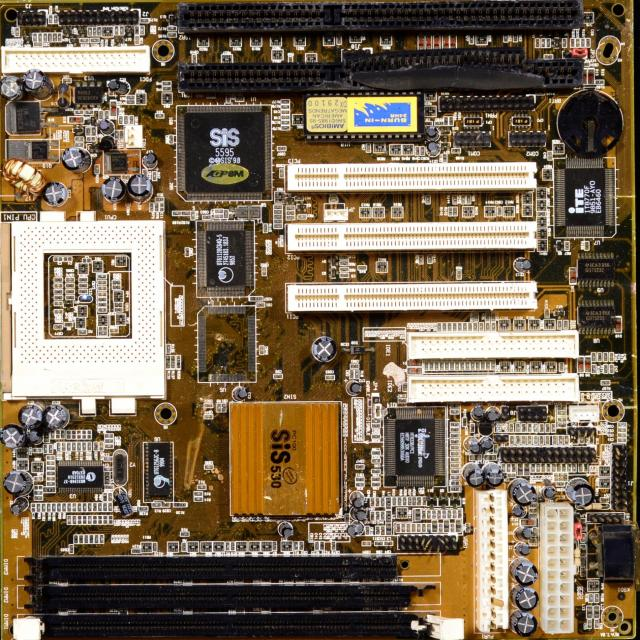Capacitor Jumper: (374, 539, 385, 547), (381, 540, 393, 547), (261, 264, 268, 276), (53, 322, 63, 330), (53, 308, 66, 314), (63, 255, 74, 262), (88, 514, 94, 526), (103, 514, 109, 526), (361, 540, 373, 546), (587, 618, 593, 630), (77, 276, 89, 282), (112, 284, 124, 290), (282, 113, 292, 120), (277, 145, 287, 152), (203, 464, 214, 470), (370, 496, 376, 507), (65, 282, 76, 288), (78, 288, 89, 294), (204, 402, 213, 409), (53, 256, 62, 263), (350, 363, 360, 369), (616, 422, 626, 428), (616, 427, 626, 433), (72, 430, 78, 440), (98, 515, 104, 525), (411, 524, 417, 534), (374, 540, 384, 546), (214, 208, 224, 214), (202, 214, 212, 220), (184, 246, 190, 256), (66, 276, 76, 282), (53, 277, 63, 283), (112, 280, 124, 285), (54, 301, 64, 307), (98, 302, 108, 308), (110, 328, 120, 334), (326, 374, 334, 381), (53, 295, 64, 300), (98, 296, 109, 301), (114, 308, 125, 313), (617, 433, 626, 439), (94, 441, 100, 450), (82, 515, 88, 524), (66, 516, 72, 525), (109, 516, 115, 525), (78, 516, 84, 525), (281, 120, 290, 126), (98, 286, 107, 292), (256, 302, 265, 308), (609, 364, 614, 374), (204, 414, 214, 419), (87, 430, 92, 440), (77, 430, 82, 440), (616, 438, 626, 443), (93, 514, 98, 524), (375, 525, 380, 535), (380, 526, 385, 536), (362, 541, 372, 546), (331, 540, 336, 550), (214, 214, 224, 219), (340, 255, 350, 260), (340, 273, 350, 278), (98, 308, 108, 313), (56, 428, 60, 440), (33, 42, 45, 46), (349, 370, 354, 379), (222, 403, 227, 412), (586, 38, 591, 47), (82, 430, 87, 439), (396, 523, 401, 532), (279, 169, 284, 178), (497, 206, 502, 215), (54, 283, 63, 288), (66, 295, 75, 300), (260, 345, 264, 356), (98, 280, 109, 284), (274, 374, 282, 379), (571, 38, 575, 48), (100, 441, 104, 451), (423, 496, 427, 506), (370, 511, 374, 521), (365, 526, 370, 534), (129, 116, 134, 124), (169, 136, 174, 144), (416, 146, 420, 156), (126, 196, 130, 206), (160, 203, 165, 211), (80, 283, 88, 288), (54, 289, 64, 293), (66, 290, 76, 294), (115, 303, 125, 307), (67, 429, 71, 438), (418, 497, 422, 506), (32, 503, 36, 512), (70, 545, 74, 554), (281, 110, 290, 114), (99, 292, 108, 296), (576, 38, 580, 46), (375, 498, 379, 506), (407, 524, 411, 532), (143, 169, 147, 176), (300, 542, 303, 550), (595, 620, 598, 628)
Connector: (339, 0, 591, 34), (171, 0, 339, 35), (478, 491, 513, 632), (544, 504, 576, 635), (54, 8, 151, 28), (5, 6, 45, 27)
IC: (178, 104, 276, 199), (383, 405, 452, 482), (557, 157, 621, 239), (195, 223, 257, 298), (144, 435, 176, 500), (52, 459, 104, 494)
Resistor Jumper: (374, 142, 388, 154), (552, 143, 565, 155), (389, 143, 401, 156), (135, 92, 146, 106), (522, 192, 533, 206), (462, 205, 474, 217), (270, 36, 283, 47), (359, 207, 372, 218), (391, 207, 404, 218), (376, 261, 387, 274), (141, 542, 153, 553), (372, 207, 384, 218), (379, 35, 392, 45), (230, 38, 243, 48), (402, 145, 413, 156), (522, 205, 533, 216), (485, 206, 496, 217), (504, 206, 515, 217), (250, 37, 262, 47), (281, 540, 291, 552), (294, 36, 305, 46), (198, 37, 209, 47), (162, 93, 172, 104), (151, 503, 172, 508), (275, 192, 285, 202), (96, 272, 108, 279), (63, 321, 75, 328), (93, 534, 101, 544), (248, 296, 264, 301), (491, 359, 497, 371), (459, 360, 465, 372), (82, 443, 89, 453), (78, 534, 85, 544), (88, 534, 95, 544), (280, 98, 290, 105), (298, 213, 308, 220), (62, 441, 68, 452), (72, 514, 78, 525), (84, 534, 90, 545), (262, 223, 268, 234), (15, 27, 21, 38), (478, 322, 484, 333), (452, 322, 458, 333), (595, 79, 604, 86), (449, 360, 455, 370), (454, 360, 460, 370), (80, 38, 90, 44), (50, 430, 56, 440), (67, 442, 73, 452), (197, 484, 207, 490), (193, 491, 203, 497), (416, 523, 422, 533), (421, 523, 427, 533), (100, 534, 106, 544), (74, 535, 80, 545), (75, 109, 85, 115), (460, 195, 466, 205), (418, 253, 423, 265), (339, 260, 349, 266), (491, 322, 497, 332), (445, 360, 450, 371), (138, 506, 149, 511), (381, 510, 386, 521), (594, 593, 599, 604), (428, 254, 433, 265), (485, 312, 490, 323), (77, 329, 88, 334), (480, 361, 486, 370), (429, 361, 435, 370), (424, 362, 430, 371), (57, 442, 63, 451), (446, 510, 452, 519), (314, 541, 320, 550), (155, 113, 164, 119), (114, 130, 120, 139), (140, 17, 149, 23), (442, 322, 448, 331), (436, 323, 442, 332), (174, 503, 187, 507), (476, 360, 481, 370), (434, 361, 439, 371), (559, 362, 564, 372), (592, 364, 597, 374), (61, 430, 66, 440), (77, 442, 82, 452), (402, 496, 407, 506), (426, 524, 431, 534), (180, 532, 190, 537), (320, 541, 325, 551), (366, 143, 371, 153), (420, 146, 425, 156), (152, 171, 157, 181), (149, 202, 154, 212), (167, 27, 177, 32), (474, 312, 479, 322), (467, 322, 472, 332), (462, 322, 467, 332), (486, 322, 491, 332), (485, 360, 489, 372), (72, 442, 78, 450), (426, 193, 430, 205), (173, 210, 181, 216), (558, 319, 562, 331), (98, 332, 110, 336), (135, 35, 140, 44), (437, 509, 442, 518), (452, 510, 457, 519), (281, 126, 290, 131), (339, 267, 348, 272), (457, 270, 462, 279), (491, 312, 496, 321), (473, 323, 478, 332), (408, 496, 412, 507), (75, 142, 86, 146), (54, 13, 58, 24), (168, 32, 176, 37), (471, 360, 475, 370), (603, 365, 608, 373), (355, 370, 360, 378), (217, 402, 221, 412), (580, 37, 584, 47), (194, 498, 204, 502), (393, 496, 397, 506), (413, 496, 417, 506), (68, 502, 72, 512), (427, 511, 432, 519), (132, 549, 140, 554), (589, 594, 594, 602), (282, 105, 290, 110), (75, 136, 85, 140), (95, 164, 99, 174), (48, 14, 52, 24), (467, 195, 471, 205), (155, 202, 159, 212), (448, 208, 453, 216), (191, 210, 195, 220), (565, 241, 569, 251), (545, 309, 549, 319), (564, 321, 569, 329), (447, 323, 452, 331), (466, 362, 470, 371), (88, 442, 92, 451), (398, 496, 402, 505), (381, 498, 385, 507), (47, 503, 51, 512), (52, 503, 56, 512), (442, 510, 446, 519), (402, 524, 406, 533), (153, 542, 157, 551), (272, 542, 276, 551), (162, 82, 171, 86), (162, 87, 171, 91), (124, 115, 128, 124), (119, 116, 123, 125), (120, 130, 124, 139), (453, 194, 457, 203), (181, 211, 190, 215), (432, 511, 437, 518), (440, 362, 444, 370), (104, 503, 108, 511), (58, 503, 62, 511), (92, 503, 96, 511), (88, 503, 92, 511), (62, 503, 66, 511), (72, 504, 76, 512), (83, 504, 87, 512), (294, 542, 298, 550), (126, 95, 134, 99), (444, 118, 448, 126), (458, 323, 462, 331), (610, 352, 613, 362), (376, 511, 379, 521), (91, 38, 98, 42), (42, 504, 46, 511), (78, 504, 82, 511), (85, 111, 94, 114), (450, 117, 453, 126), (99, 503, 102, 511), (109, 504, 112, 511), (38, 504, 40, 511)
